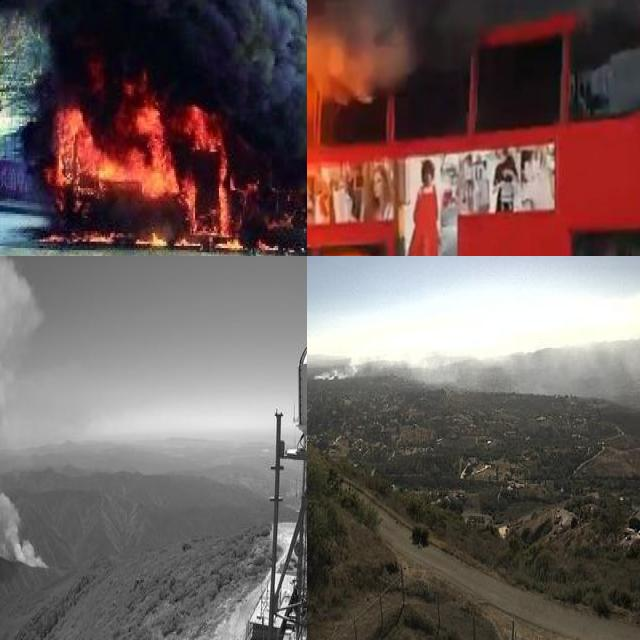fire: (52, 70, 307, 256), (307, 0, 361, 229)
smoke: (0, 0, 307, 169), (311, 314, 562, 389), (0, 256, 59, 570)
